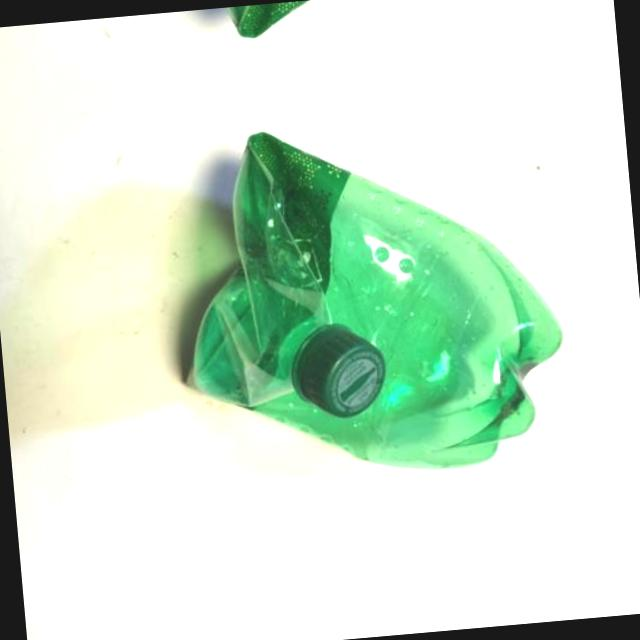Plastic: (111, 84, 602, 514), (102, 0, 564, 71), (156, 598, 615, 640)
